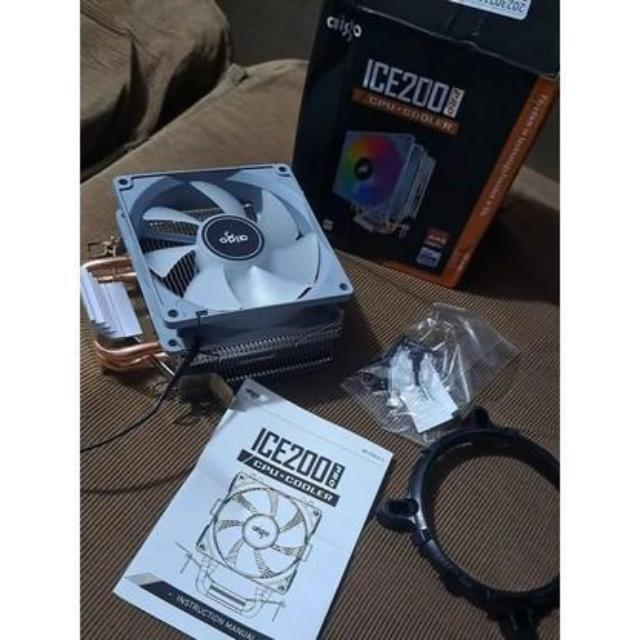CPU_Fan: (75, 165, 357, 390)
